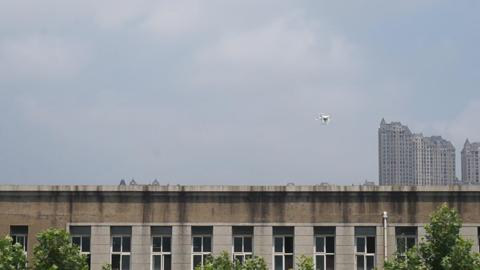UAV: (315, 114, 332, 125)
